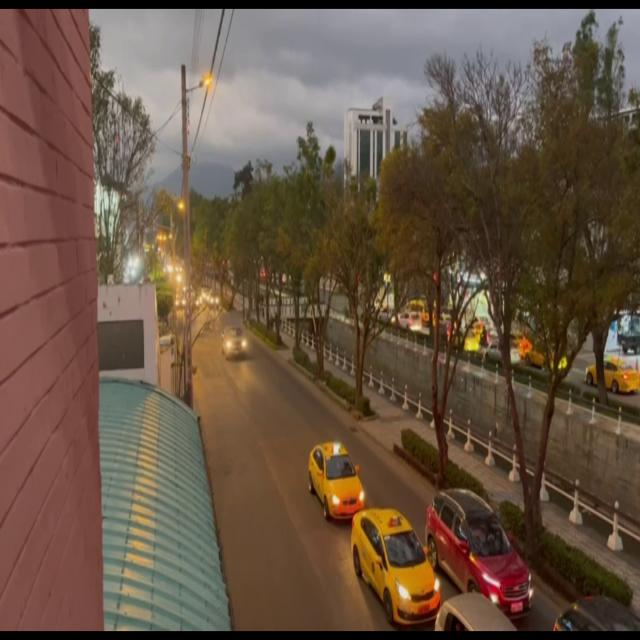SED: (353, 514, 436, 624), (312, 446, 364, 519)
SUV: (432, 495, 533, 614)
